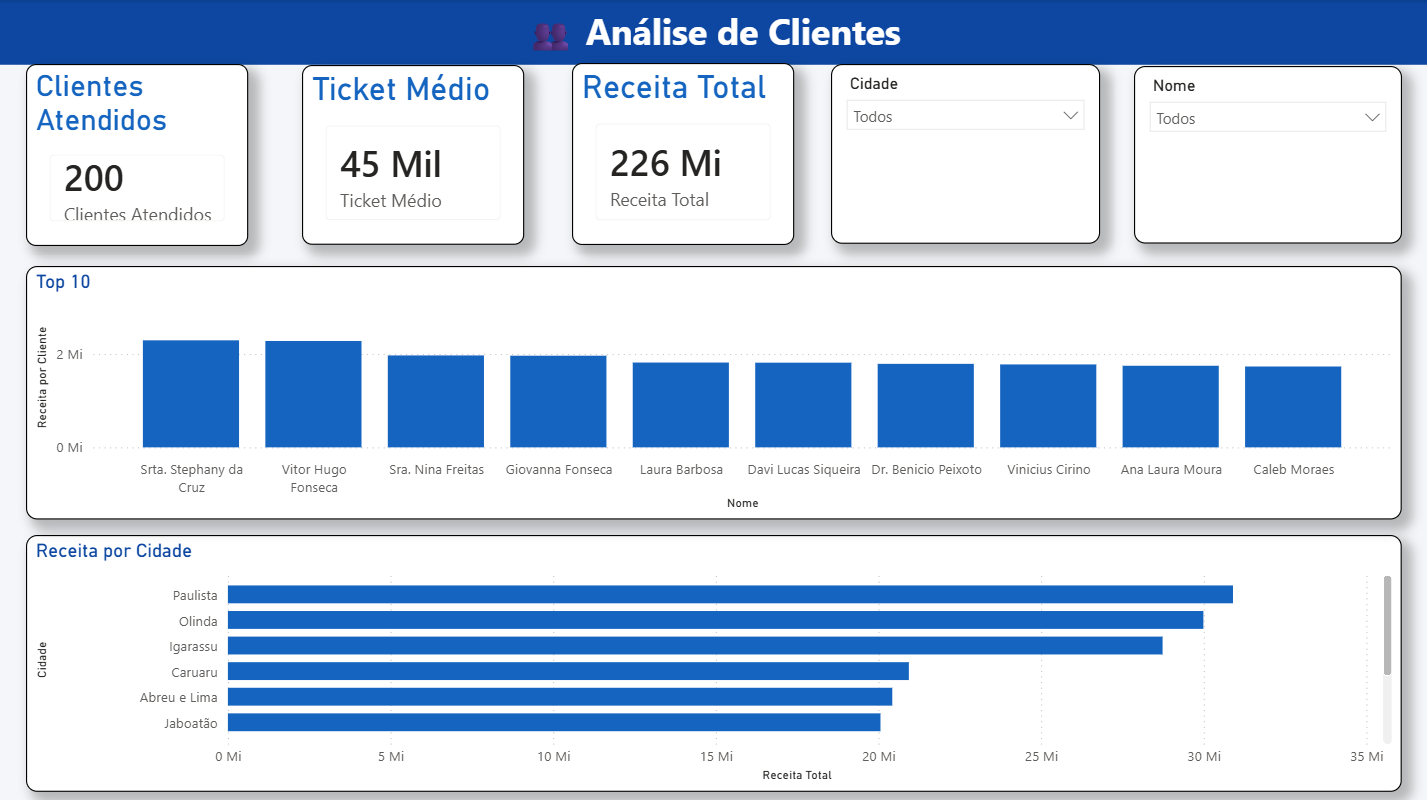

Layout of this report page (visuals, bound fields, positions):
{"tool":"powerbi","page":{"name":"👥  Clientes","canvas":[1280,720],"ordinal":1},"visuals":[{"type":"textbox","box":[0,0,1280,58.1],"z":0},{"type":"slicer","fields":{"Values":["Clientes.Cidade"]},"box":[745.2,57,241.2,160.8],"z":1000},{"type":"slicer","fields":{"Values":["Clientes.Nome"]},"box":[1016.3,58.9,240.3,158.9],"z":2000},{"type":"cardVisual","title":"Clientes Atendidos","fields":{"Data":["vendas.Clientes Atendidos"]},"box":[24.3,57,199.2,162.7],"z":3000},{"type":"cardVisual","title":"Ticket Médio","fields":{"Data":["vendas.Ticket Médio"]},"box":[271.1,58,199.2,160.8],"z":4000},{"type":"cardVisual","title":"Receita Total","fields":{"Data":["vendas.Receita Total"]},"box":[513.3,56.1,199.2,162.7],"z":5000},{"type":"clusteredBarChart","title":"Receita por Cidade","fields":{"Category":["Clientes.Cidade"],"Y":["vendas.Receita Total"]},"box":[24.3,478.7,1232.3,230],"z":6000},{"type":"columnChart","title":"Top 10","fields":{"Category":["Clientes.Nome"],"Y":["vendas.Receita por Cliente"]},"box":[24.3,238.4,1232.3,227.2],"z":8000}]}

Visuals, with their boxes in screenshot pixels (x1, y1, x2, y2), scaled from the page's 1280x720 canvas onto the 1427x800 screenshot:
textbox: bbox=[0, 0, 1426, 65]
slicer - Clientes.Cidade: bbox=[831, 63, 1100, 242]
slicer - Clientes.Nome: bbox=[1133, 65, 1401, 242]
"Clientes Atendidos" cardVisual: bbox=[27, 63, 249, 244]
"Ticket Médio" cardVisual: bbox=[302, 64, 524, 243]
"Receita Total" cardVisual: bbox=[572, 62, 794, 243]
"Receita por Cidade" clusteredBarChart: bbox=[27, 532, 1401, 787]
"Top 10" columnChart: bbox=[27, 265, 1401, 517]
